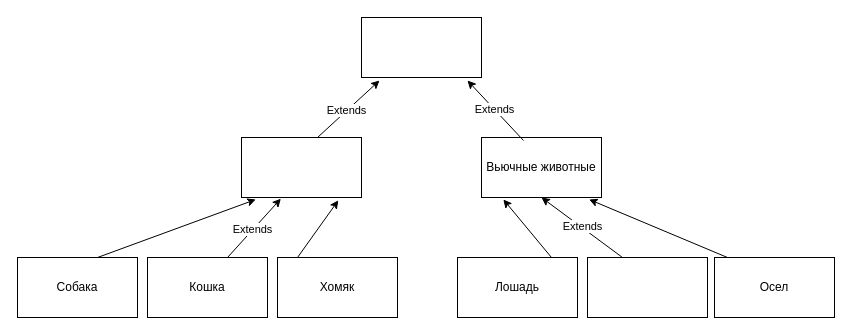
Some shapes in this 852 by 335 pixel diagram are drawn without their labels. Here are the shapes that lost their labels. From the top down, the centre of each, then its label:
(x=421, y=47): Животные
(x=301, y=167): Домашние животные
(x=647, y=287): Верблюд
